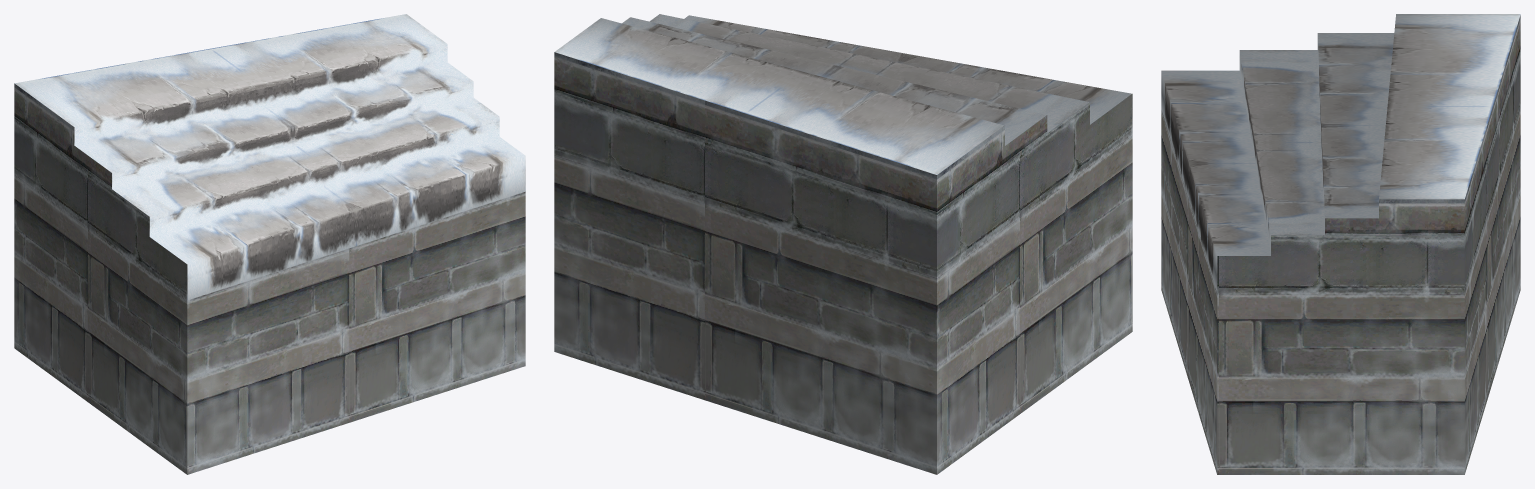
Rendered from jz_taijie_0101.FBX.
The picture shows the model from 3 angles, left to right: view 1: azimuth 30°, elevation 25°; view 2: azimuth 150°, elevation 25°; view 3: azimuth 270°, elevation 25°; orthographic projection. The views are drawn at different scales.
Parts seen in each view (by area): view 1: jz_taijie_0101; view 2: jz_taijie_0101; view 3: jz_taijie_0101.
Boxes of the visible parts, x1,y1,x2,y2 form: jz_taijie_0101: (14,14,525,474); jz_taijie_0101: (554,14,1132,474); jz_taijie_0101: (1161,14,1520,474).
Size of the model in its own units: 272 by 189 by 223.
